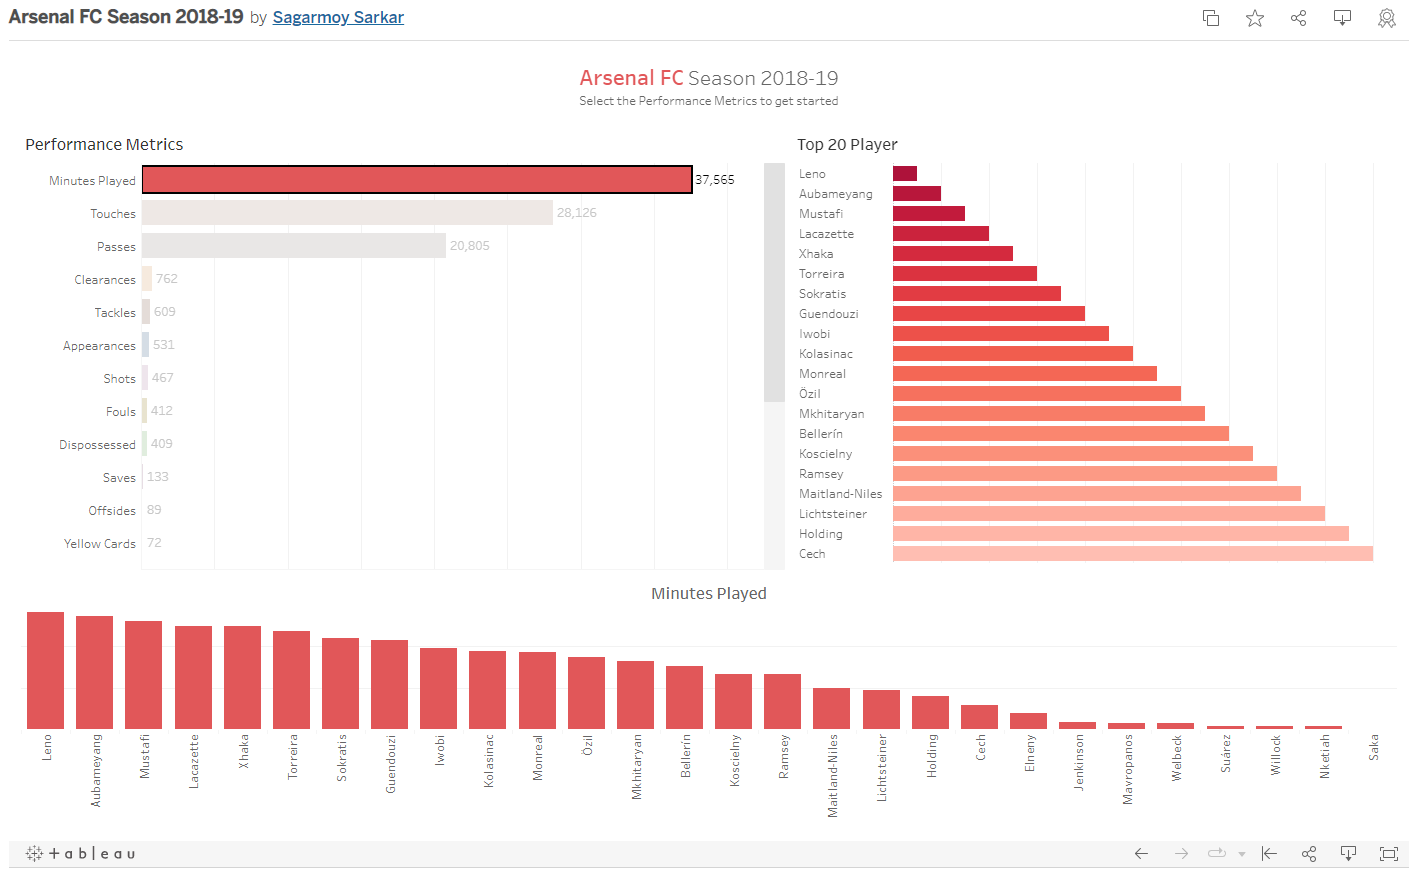

What the dashboard file says about the page in this screenshot:
{"tool":"tableau","page":{"name":"Arsenal FC Season 2018-19","canvas":[1400,800],"ordinal":0},"visuals":[{"type":"text","box":[8,8,1384,72]},{"type":"worksheet","title":"Performance Metrics","mark":"Automatic","rows":["Metric"],"cols":["Stat"],"box":[8,80,772.1,452.5]},{"type":"worksheet","title":"Player Rank by Metrics","mark":"Automatic","rows":["Metric","Player - Split 1"],"cols":["Rank"],"box":[780.1,80,611.9,452.5]},{"type":"worksheet","title":"Ranking by Metrics","mark":"Automatic","rows":["Stat"],"cols":["Metric","Player - Split 1"],"box":[8,532.5,1384,259.5]}]}

Visuals, with their boxes on the page's 1400x800 design canvas (x1, y1, x2, y2). These are canvas units, not pixel positions in the 1415x872 screenshot, which may show the page scaled, cropped or inside an application window:
text: <bbox>8, 8, 1392, 80</bbox>
"Performance Metrics" worksheet: <bbox>8, 80, 780, 532</bbox>
"Player Rank by Metrics" worksheet: <bbox>780, 80, 1392, 532</bbox>
"Ranking by Metrics" worksheet: <bbox>8, 532, 1392, 792</bbox>
